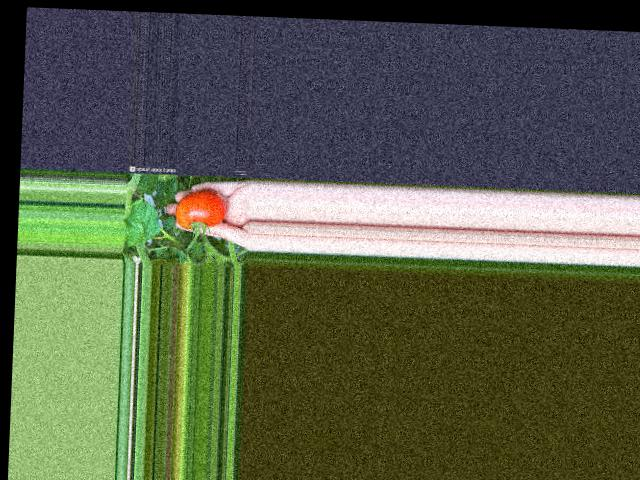tomato: (175, 189, 227, 230)
